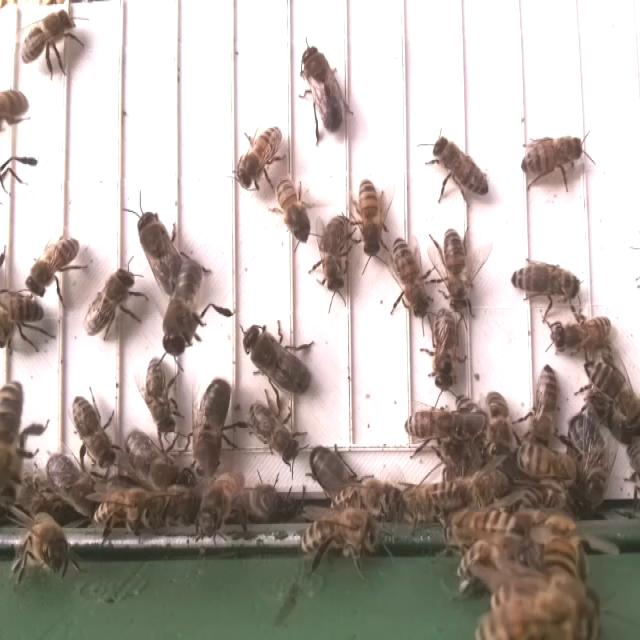Drone: (239, 322, 313, 397), (160, 258, 209, 359), (191, 374, 234, 483), (298, 42, 347, 136), (136, 207, 182, 291)
Worker: (431, 134, 491, 202), (82, 265, 136, 339), (69, 392, 117, 472), (389, 235, 434, 320), (245, 399, 302, 465), (234, 122, 286, 194), (18, 7, 78, 67), (26, 234, 80, 298), (141, 352, 177, 438), (583, 355, 639, 410), (509, 261, 581, 303), (399, 403, 466, 447), (428, 305, 461, 394), (527, 362, 561, 447), (274, 170, 310, 250), (518, 137, 585, 179), (441, 226, 470, 319), (550, 312, 614, 354), (318, 212, 350, 295), (356, 174, 381, 258)
